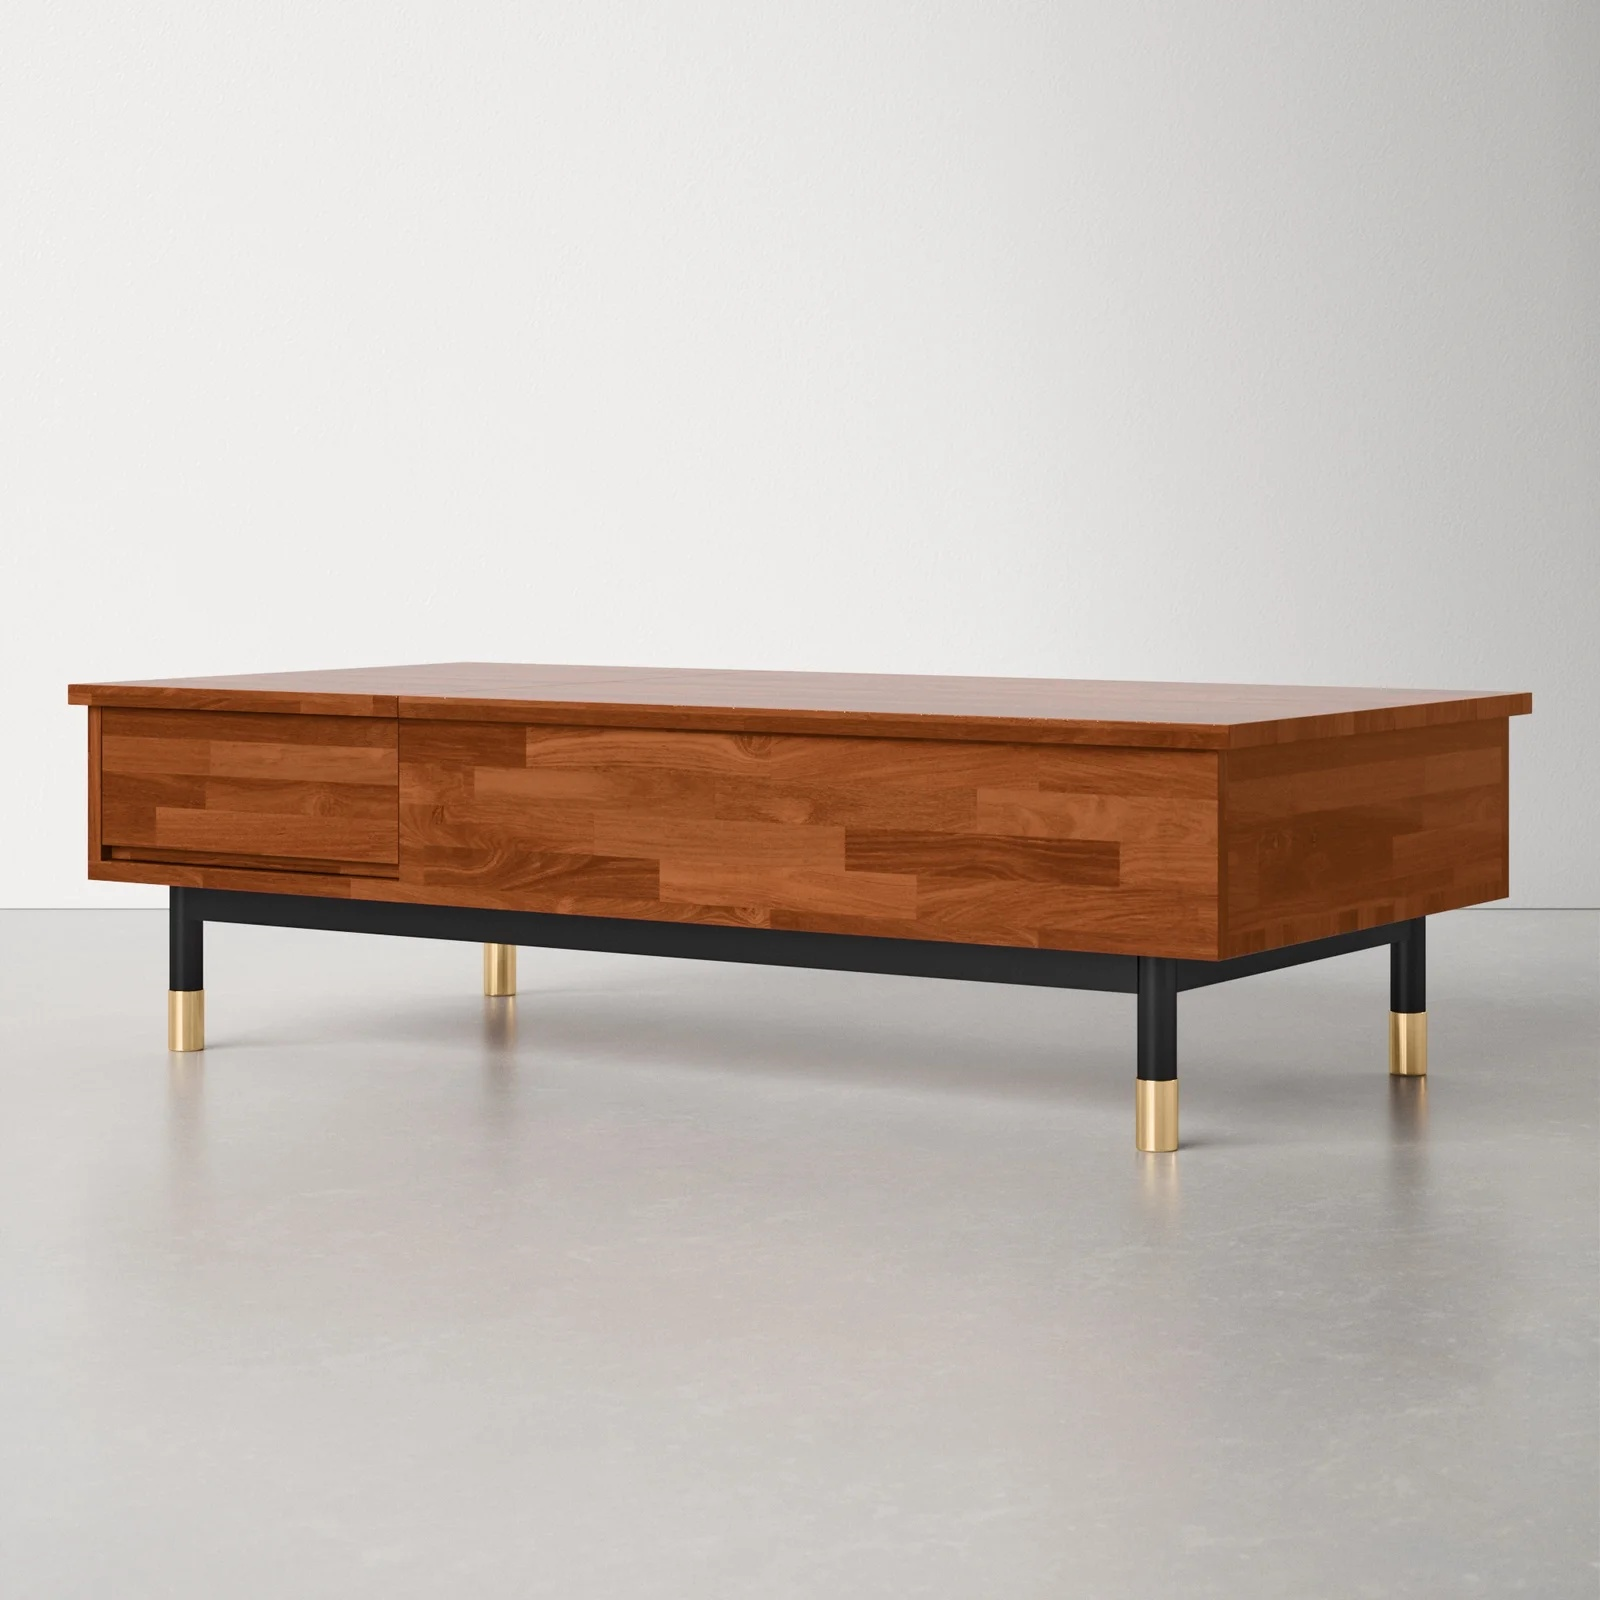obstacle: (69, 662, 1530, 1152)
